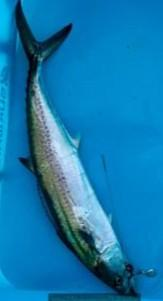fish: (16, 0, 140, 298)
